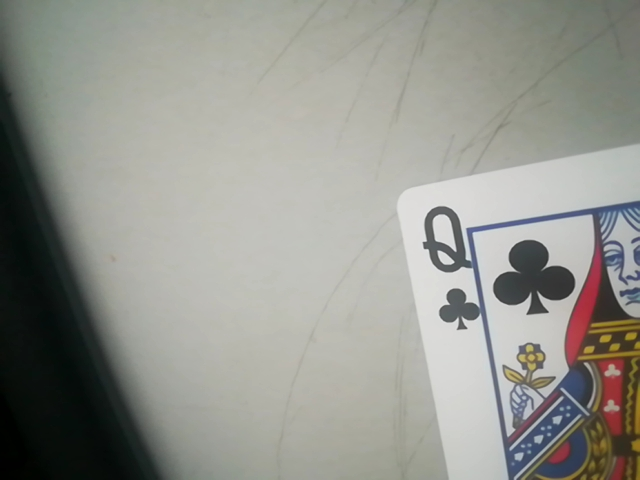mh q: (390, 88, 640, 480)
